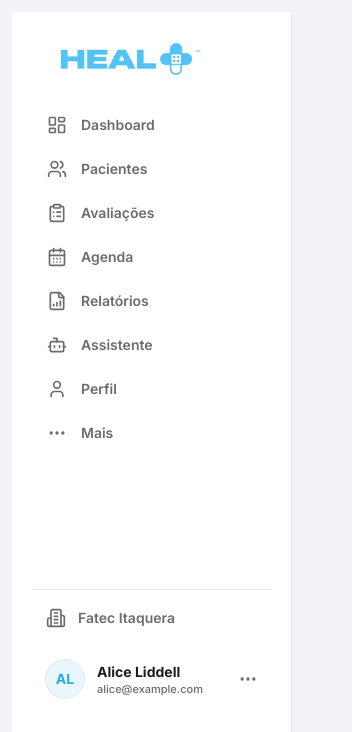
Sidebar › mantém a área atual e mostra ação segura quando o logout local falha
Click the button "AL Alice Liddell alice@example.com" at point(152, 679), box top-left (32, 646), bottom-right (271, 712)
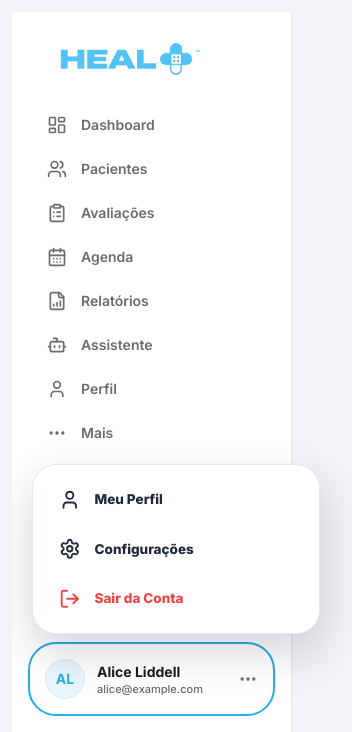
Check: the menu item "Meu Perfil" is shown, box top-left (59, 488), bottom-right (163, 510)
Click the menu item "Sair da Conta" at point(176, 598), box top-left (43, 574), bottom-right (309, 623)
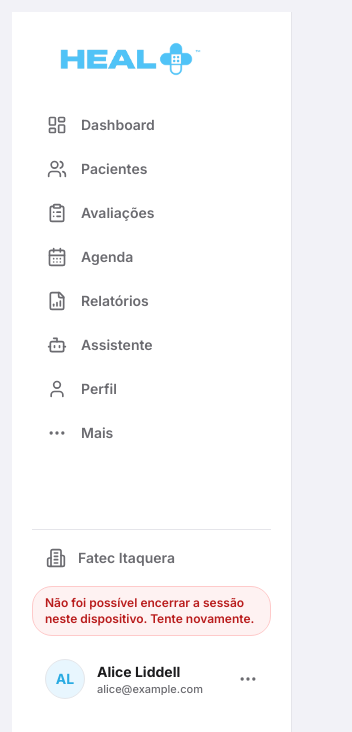
Check: the message reads "Não foi possível encerrar a sessão neste dispositivo. Tente novamente.", box top-left (45, 595), bottom-right (254, 626)
